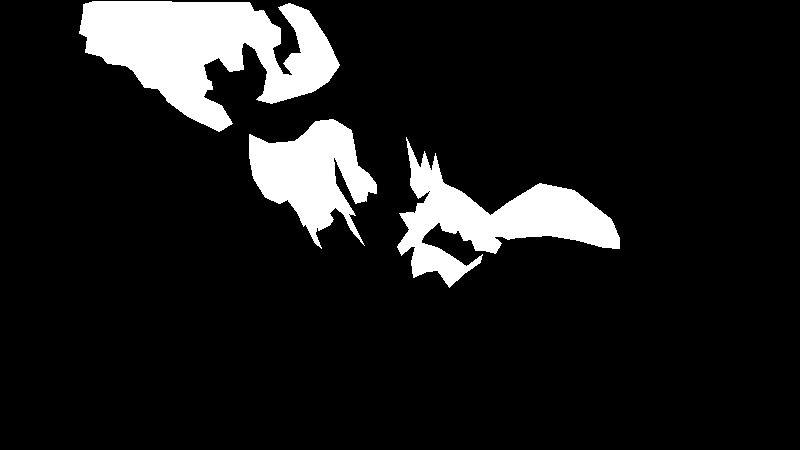Fire: (269, 139, 370, 232), (409, 185, 568, 241)
